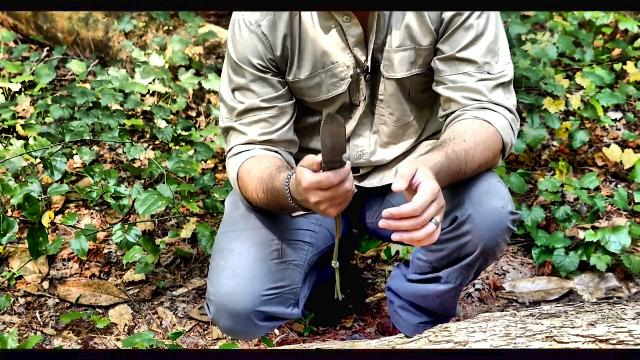knife: (303, 107, 357, 200)
